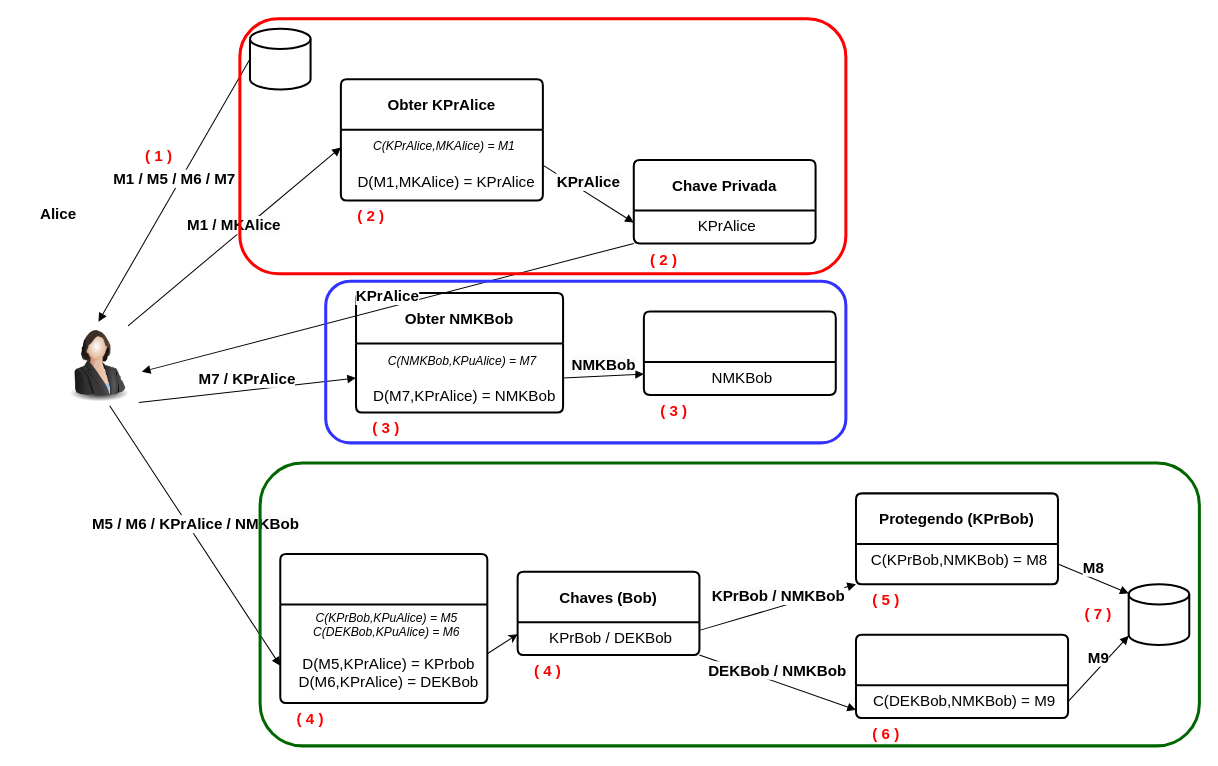
This 1218x766 diagram has some shape labels left out. Here are the shapes that lost their labels. From the top down, the box of each, then its label:
(642, 310, 836, 395): Nova Chave Mestra (Bob)
(279, 552, 488, 703): Obter KPrbob/DEKBob
(854, 633, 1069, 719): Protegendo (DEKBob)
